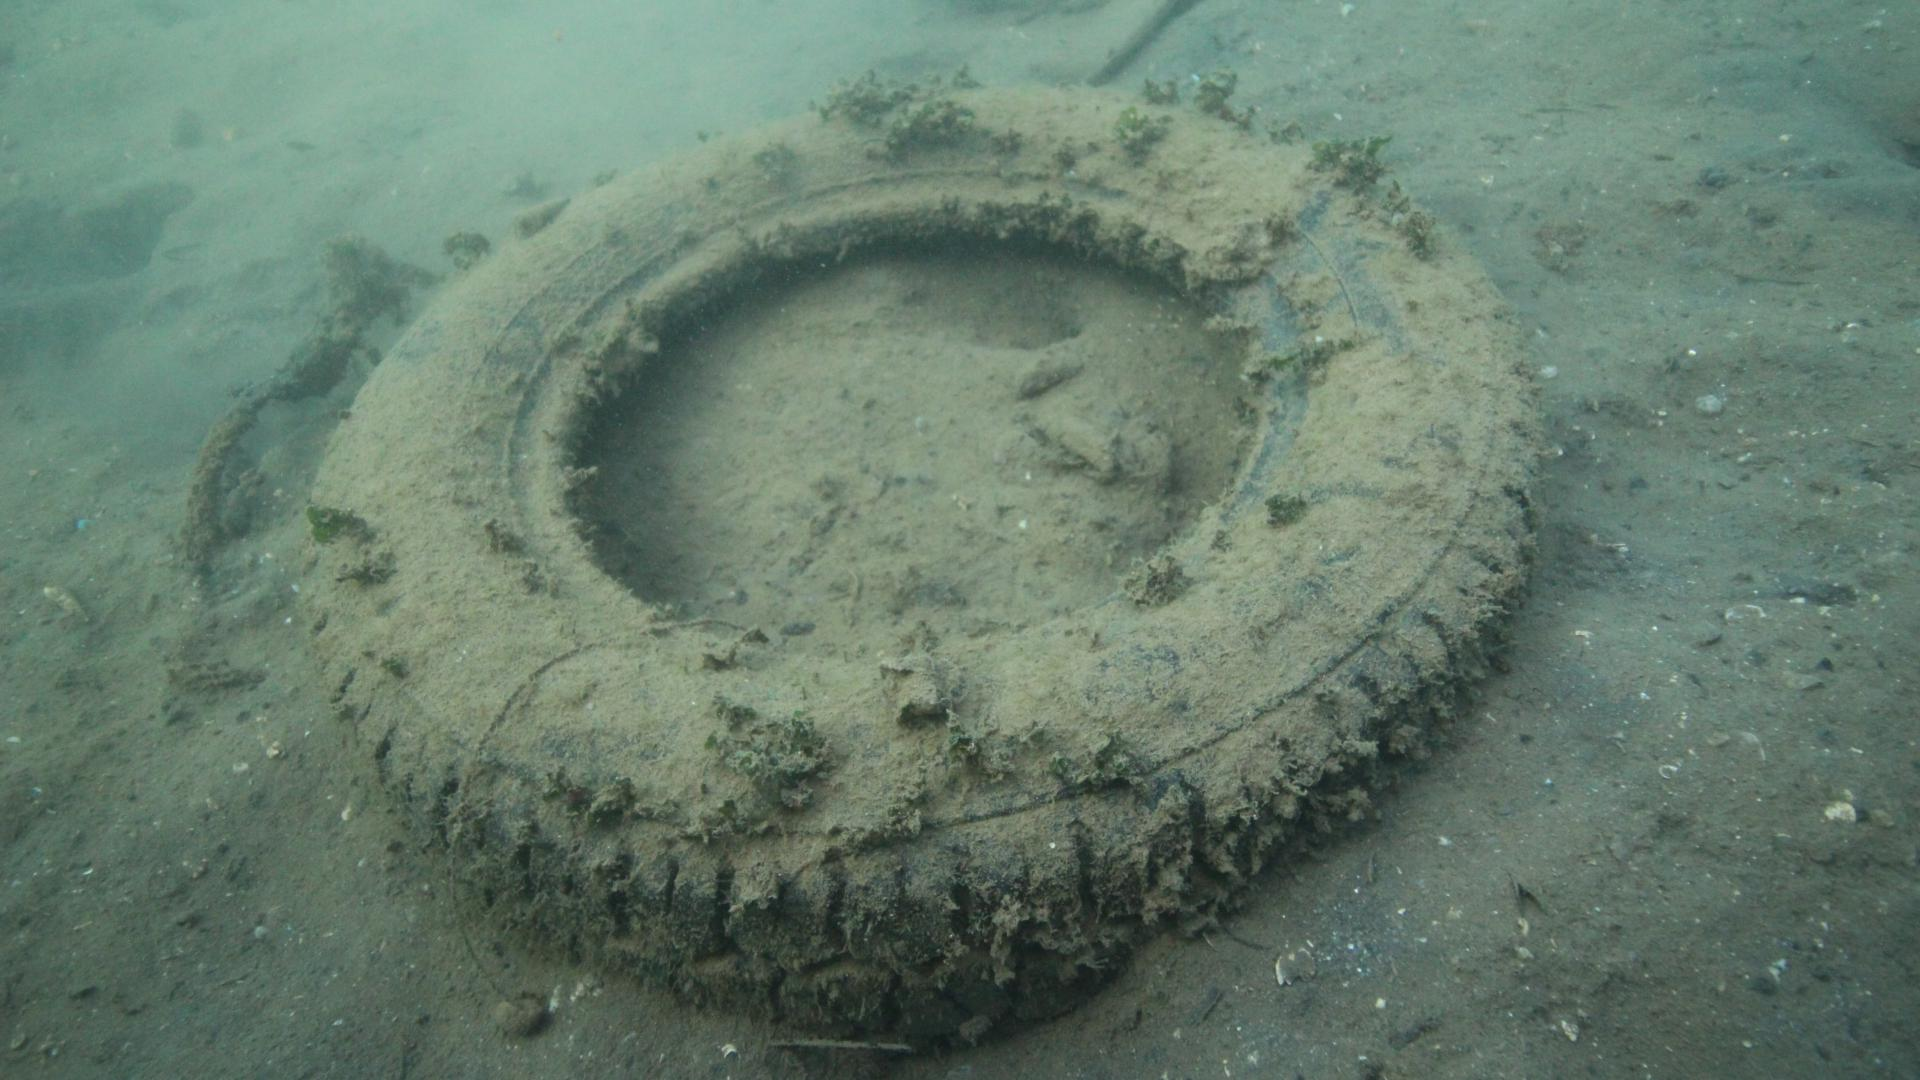tire: (297, 83, 1539, 1052)
